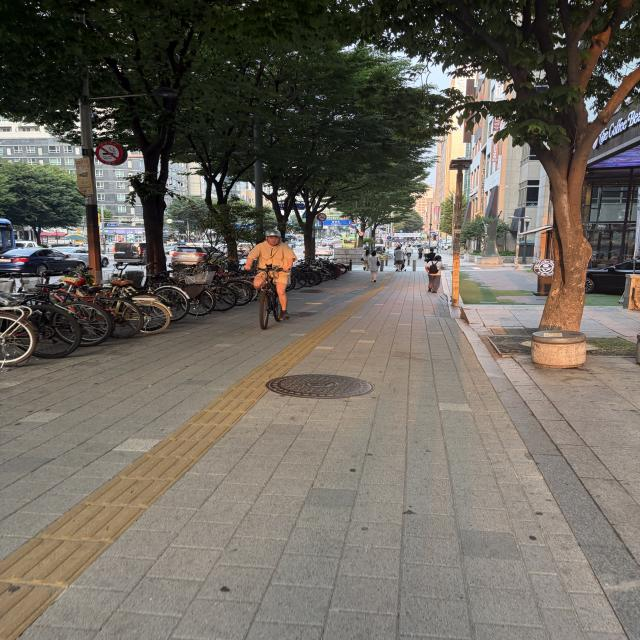bicycle: (224, 255, 314, 340)
